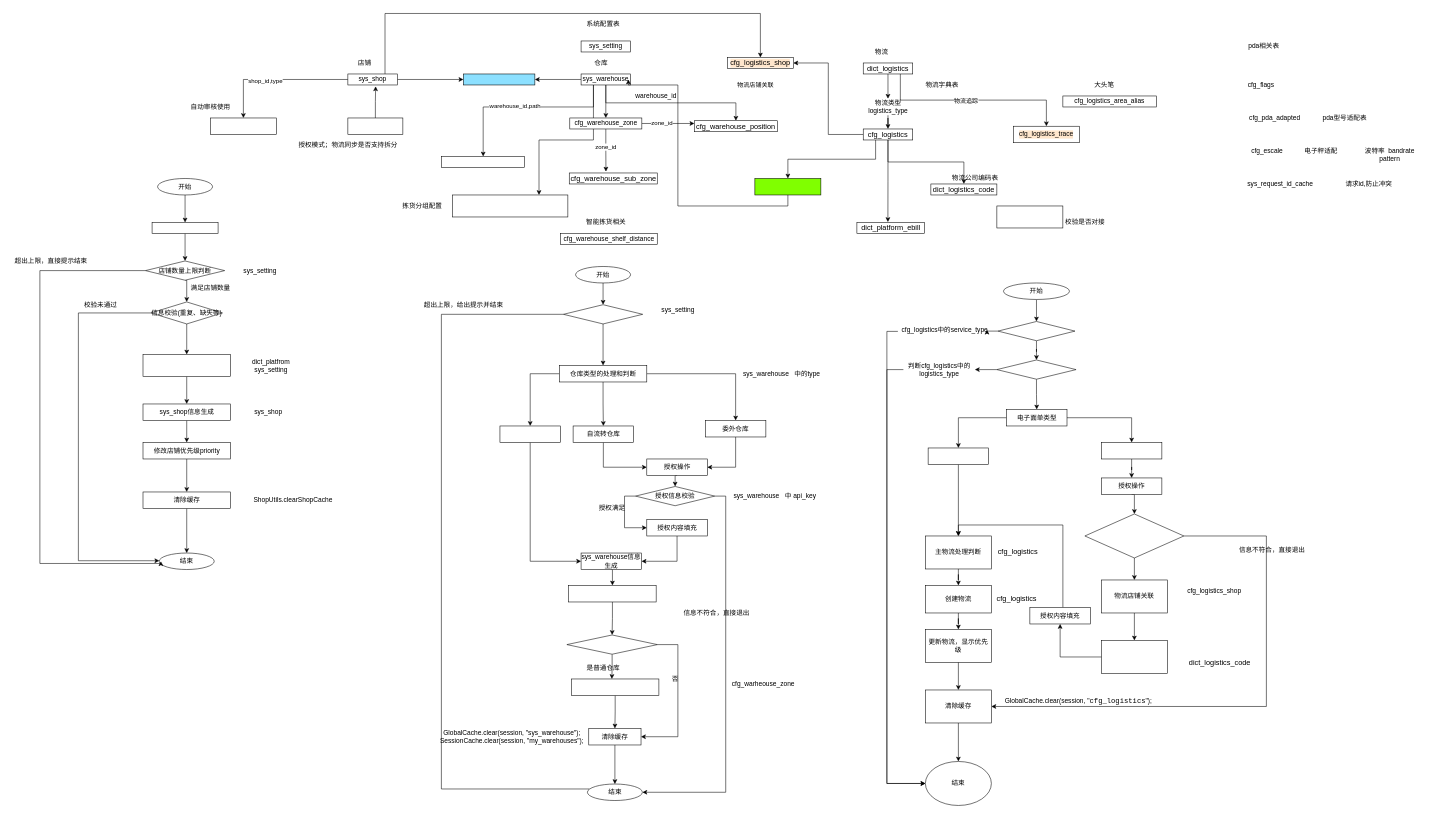
Image size: 1435x815. Some labels were removed from this diagram. The shapes that lost their labels are listed below. From the top down, each one's box as (x1, y1, x2, y2) in pixels, then its label:
(463, 73, 535, 85): cfg_shop_warehouse
(210, 117, 276, 134): sys_shop_setting
(347, 117, 403, 134): dict_platform
(441, 156, 524, 167): cfg_warehouse_area
(452, 194, 568, 217): sys_warehouse_pick_group_config
(754, 178, 821, 195): cfg_logistics_wms
(152, 222, 218, 233): 录入店铺必要信息
(996, 205, 1063, 228): dict_logistics_ebill
(563, 304, 643, 324): 仓库上限判断
(997, 321, 1075, 341): 业务类型
(142, 354, 230, 376): checkLogisticsPartSync 拆单发货的检查以及输出初始
(996, 359, 1076, 379): 物流公司类型
(499, 425, 560, 442): 普通仓库
(1101, 442, 1162, 459): 电子面单
(928, 447, 989, 464): 非电子面单
(1084, 513, 1184, 558): 校验店铺授权
(568, 585, 656, 602): 修改仓库优先级priority
(566, 634, 657, 654): 仓库type = TYPE_INNER
(1101, 640, 1167, 673): 物流公司选择
(571, 678, 659, 695): 生成拣货、备货区
